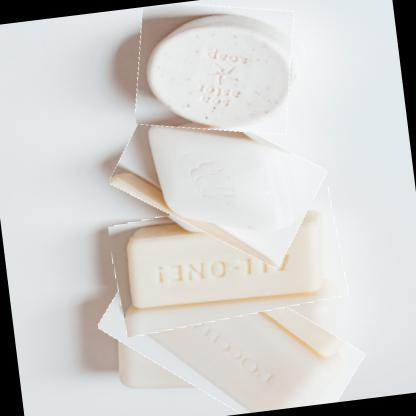soap: (93, 236, 368, 415), (106, 87, 328, 264), (106, 187, 348, 333), (126, 0, 304, 145)
